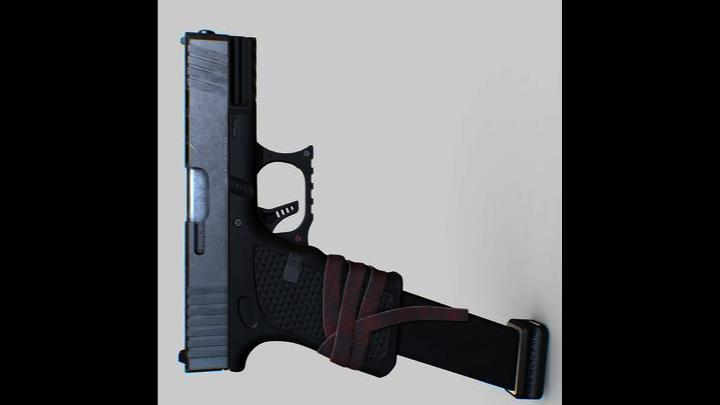gun: (175, 27, 407, 378)
